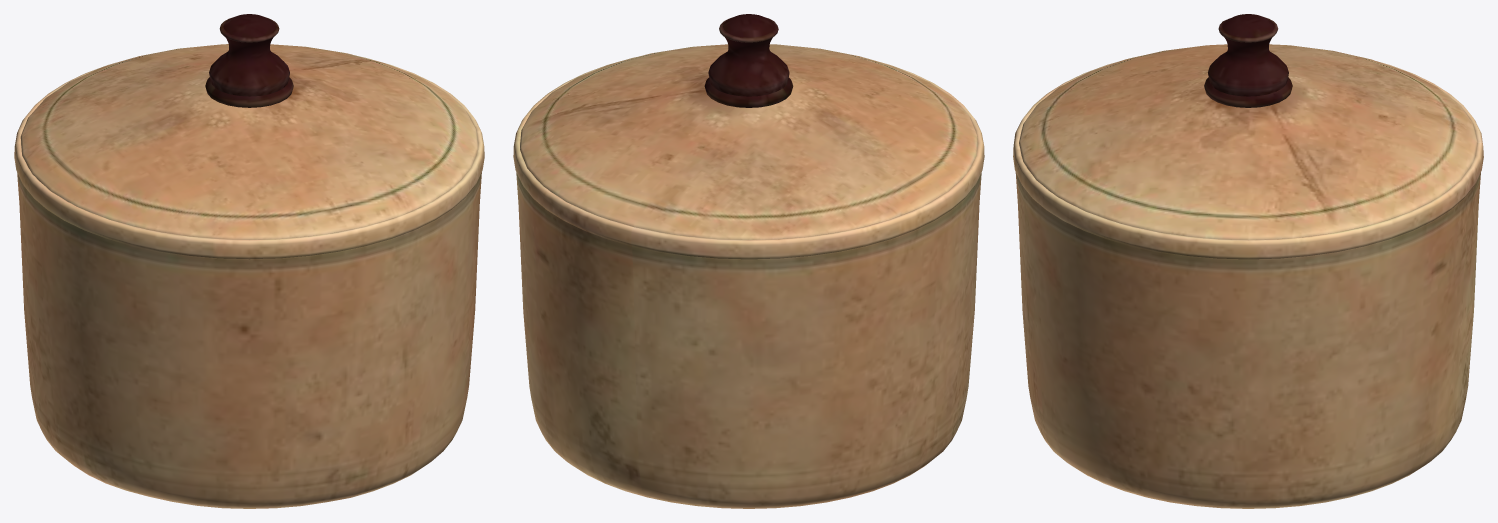
File: brass_pot.glb
3 renders of one model, left to right at view 1: azimuth 30°, elevation 25°; view 2: azimuth 150°, elevation 25°; view 3: azimuth 270°, elevation 25°, orthographic.
Visible parts, largest first — view 1: brass_pot_01; view 2: brass_pot_01; view 3: brass_pot_01.
Part boxes in pixels (x1=…): brass_pot_01: x1=14, y1=14, x2=484, y2=508; brass_pot_01: x1=513, y1=14, x2=984, y2=508; brass_pot_01: x1=1013, y1=14, x2=1483, y2=508.
Size of the model in its own units: 0.3019 by 0.291 by 0.3017.
Materials: 1 (1 with a texture image).
